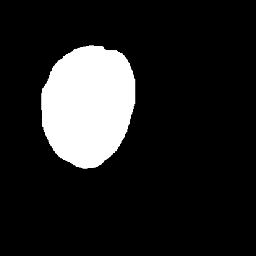mass: (40, 46, 136, 165)
